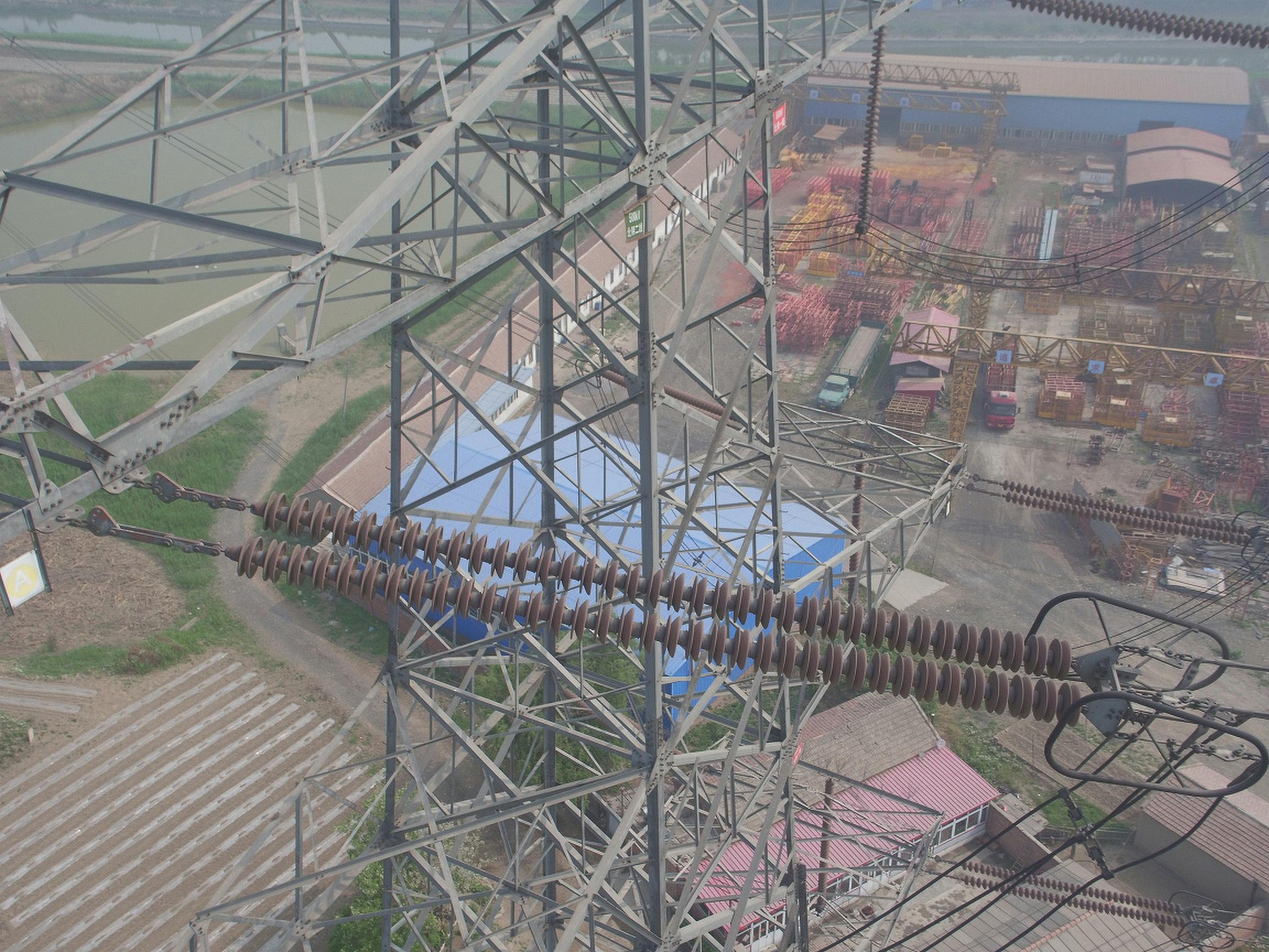insulator: (234, 485, 1087, 731), (1001, 478, 1254, 548), (959, 858, 1189, 929), (1008, 1, 1269, 51), (599, 363, 735, 426), (855, 22, 890, 221), (845, 459, 867, 603), (816, 778, 836, 911)
